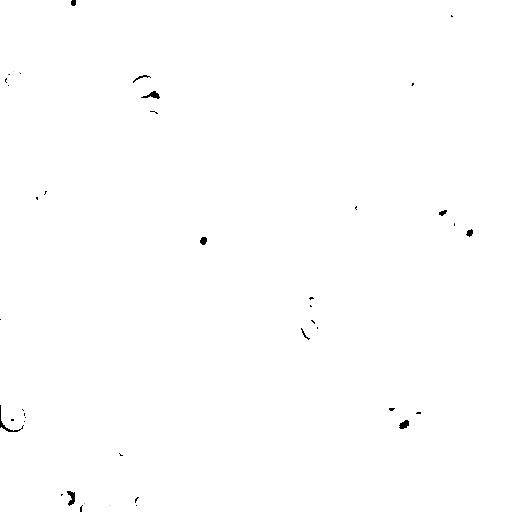micro-algae: (231, 406, 347, 511), (155, 33, 223, 103), (346, 56, 390, 101), (451, 211, 487, 249), (385, 407, 422, 443), (187, 221, 219, 260), (383, 377, 414, 415), (423, 195, 457, 227), (283, 375, 313, 410), (0, 401, 29, 434), (421, 41, 453, 69), (439, 0, 472, 26), (130, 71, 159, 99), (109, 233, 138, 261), (299, 286, 329, 312), (188, 105, 215, 133), (159, 457, 186, 485), (63, 470, 89, 499), (399, 68, 424, 95), (3, 1, 29, 26), (246, 391, 271, 417), (145, 3, 169, 30), (196, 89, 222, 113), (58, 0, 92, 18), (116, 378, 142, 399), (352, 193, 375, 215), (404, 275, 425, 299), (299, 317, 319, 342), (3, 68, 26, 89), (116, 437, 139, 457), (285, 337, 304, 359), (55, 490, 77, 508), (405, 412, 428, 429), (304, 300, 323, 318), (113, 482, 131, 501), (134, 491, 151, 511), (133, 300, 149, 321), (221, 0, 250, 11), (145, 110, 161, 129), (31, 217, 51, 232), (35, 184, 50, 203), (102, 499, 125, 511), (3, 120, 22, 133), (79, 501, 97, 511), (37, 0, 56, 8)
